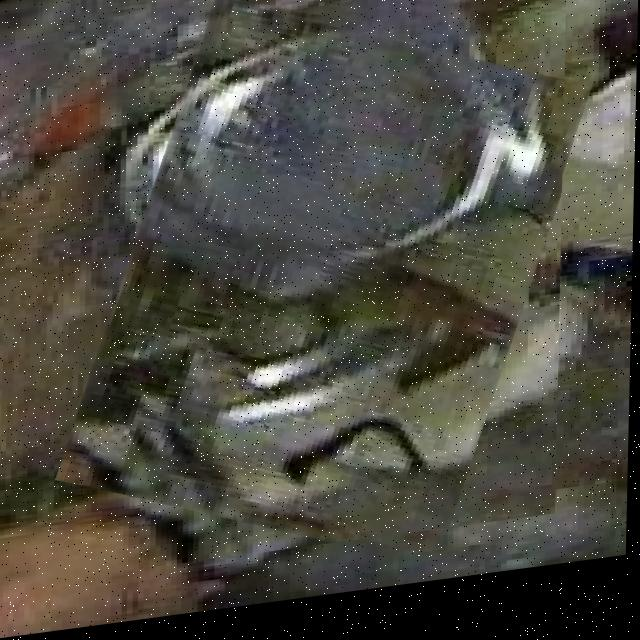can: (90, 0, 567, 577)
